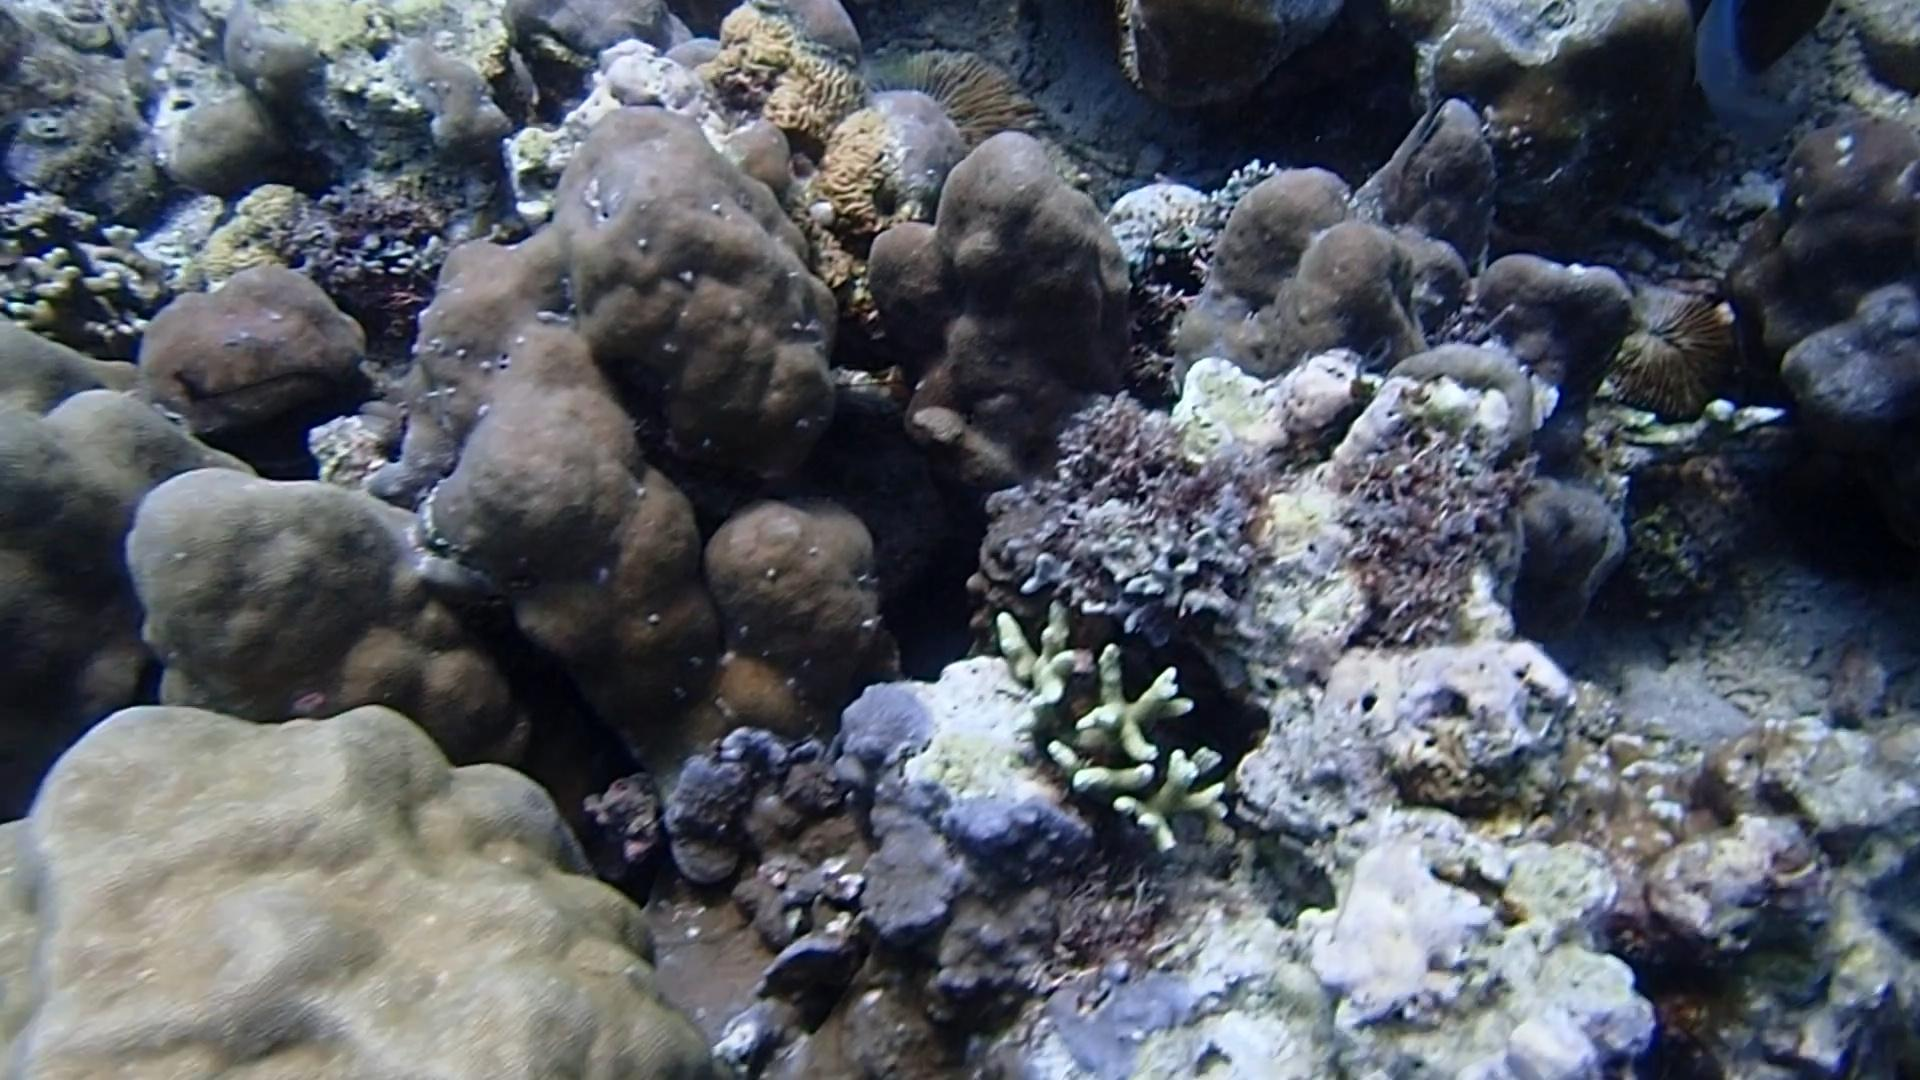Blue Fish Two: (1680, 0, 1801, 154)
